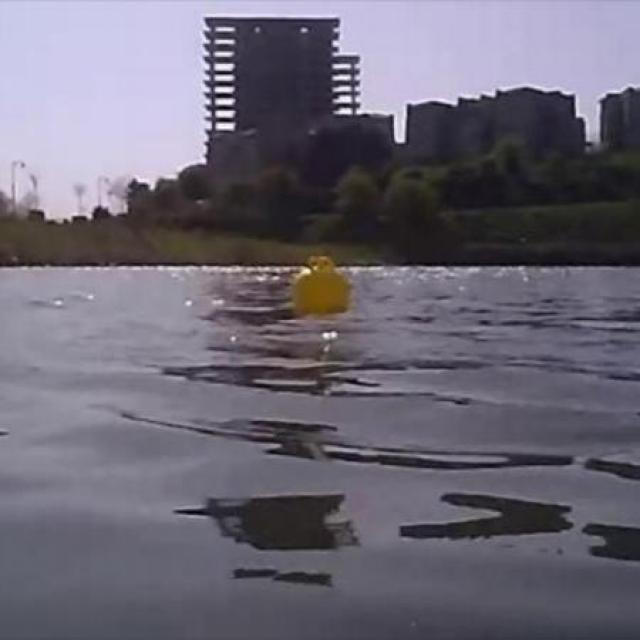buoy: (292, 256, 352, 313)
